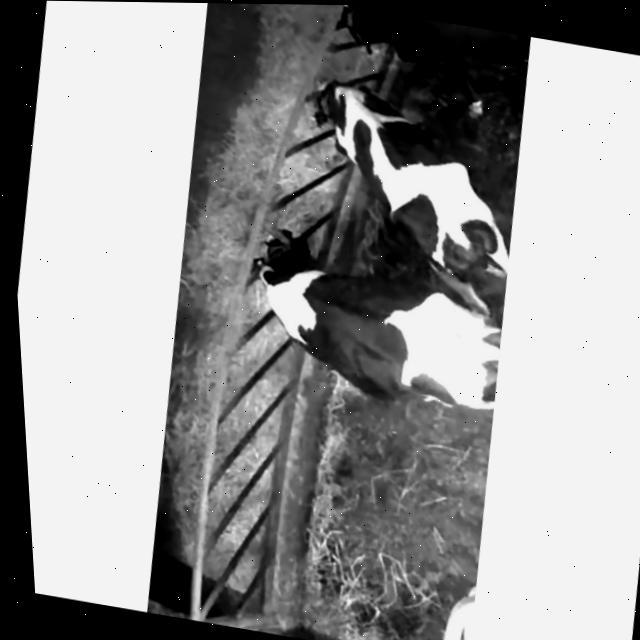eat: (168, 196, 375, 356), (217, 40, 436, 191), (294, 4, 473, 67)
